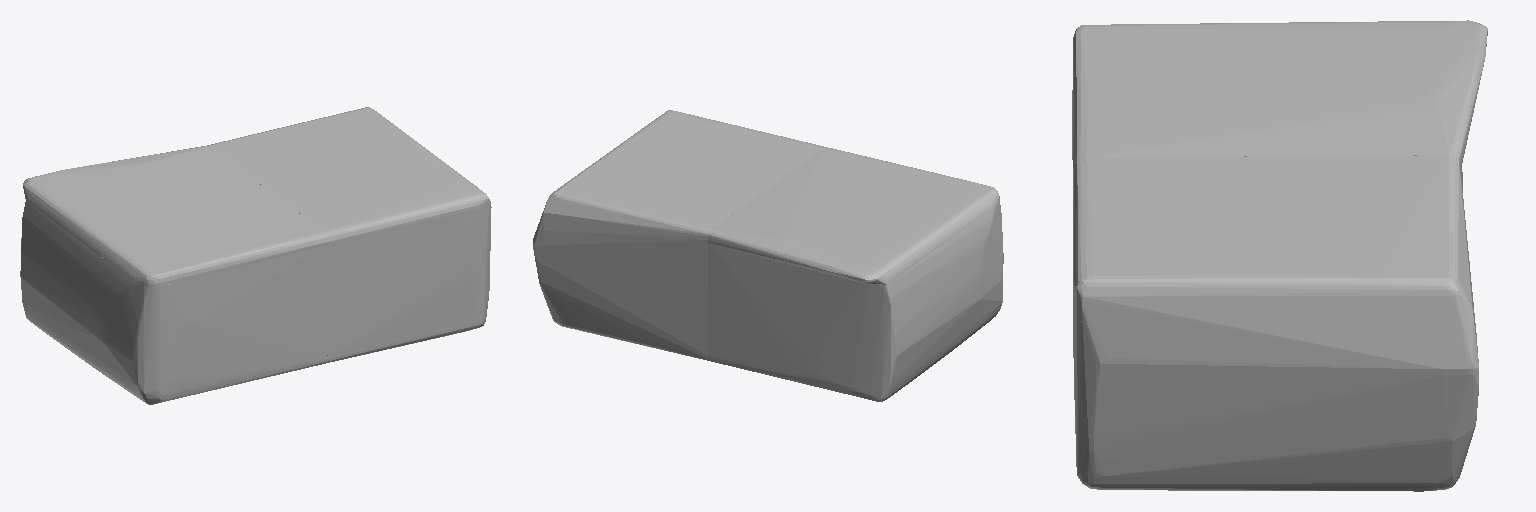
URDF robot description (root):
<robot name="root">
  <link name="link_coacd_convex_piece_0">
    <inertial>
      <origin xyz="0 0 0" rpy="0 0 0"/>
      <inertia ixx="4.51E-08" ixy="2.93E-09" ixz="-1.08E-09" iyy="1.03E-07" iyz="1.72E-10" izz="1.24E-07"/>
    </inertial>
    <visual>
      <origin xyz="0 0 0" rpy="0 0 0"/>
      <geometry>
        <mesh filename="coacd_convex_piece_0.obj" scale="1.0000E+00 1.0000E+00 1.0000E+00"/>
      </geometry>
      <material name="">
        <color rgba="7.50E-01 7.50E-01 7.50E-01 1"/>
      </material>
    </visual>
    <collision>
      <origin xyz="0 0 0" rpy="0 0 0"/>
      <geometry>
        <mesh filename="coacd_convex_piece_0.obj" scale="1.0000E+00 1.0000E+00 1.0000E+00"/>
      </geometry>
    </collision>
  </link>
  <link name="link_coacd_convex_piece_1">
    <inertial>
      <origin xyz="0 0 0" rpy="0 0 0"/>
      <inertia ixx="6.24E-09" ixy="1.22E-10" ixz="4.20E-09" iyy="1.09E-08" iyz="-3.14E-11" izz="1.09E-08"/>
    </inertial>
    <visual>
      <origin xyz="0 0 0" rpy="0 0 0"/>
      <geometry>
        <mesh filename="coacd_convex_piece_1.obj" scale="1.0000E+00 1.0000E+00 1.0000E+00"/>
      </geometry>
      <material name="">
        <color rgba="7.50E-01 7.50E-01 7.50E-01 1"/>
      </material>
    </visual>
    <collision>
      <origin xyz="0 0 0" rpy="0 0 0"/>
      <geometry>
        <mesh filename="coacd_convex_piece_1.obj" scale="1.0000E+00 1.0000E+00 1.0000E+00"/>
      </geometry>
    </collision>
  </link>
  <joint name="link_coacd_convex_piece_1_joint" type="fixed">
    <origin xyz="0 0 0" rpy="0 0 0"/>
    <parent link="link_coacd_convex_piece_0"/>
    <child link="link_coacd_convex_piece_1"/>
  </joint>
  <link name="link_coacd_convex_piece_2">
    <inertial>
      <origin xyz="0 0 0" rpy="0 0 0"/>
      <inertia ixx="4.18E-08" ixy="-4.85E-09" ixz="-2.26E-09" iyy="9.65E-08" iyz="1.72E-10" izz="1.18E-07"/>
    </inertial>
    <visual>
      <origin xyz="0 0 0" rpy="0 0 0"/>
      <geometry>
        <mesh filename="coacd_convex_piece_2.obj" scale="1.0000E+00 1.0000E+00 1.0000E+00"/>
      </geometry>
      <material name="">
        <color rgba="7.50E-01 7.50E-01 7.50E-01 1"/>
      </material>
    </visual>
    <collision>
      <origin xyz="0 0 0" rpy="0 0 0"/>
      <geometry>
        <mesh filename="coacd_convex_piece_2.obj" scale="1.0000E+00 1.0000E+00 1.0000E+00"/>
      </geometry>
    </collision>
  </link>
  <joint name="link_coacd_convex_piece_2_joint" type="fixed">
    <origin xyz="0 0 0" rpy="0 0 0"/>
    <parent link="link_coacd_convex_piece_1"/>
    <child link="link_coacd_convex_piece_2"/>
  </joint>
</robot>

--- Facts derived from the render (not from the file) ---
3 views of the same robot in one strip: view 1: azimuth 30°, elevation 25°; view 2: azimuth 150°, elevation 25°; view 3: azimuth 270°, elevation 25° (orthographic).
Model root with 3 links and 2 joints (2 fixed), rooted at link_coacd_convex_piece_0, posed all joints at 0.
Visible links, largest first — view 1: link_coacd_convex_piece_0, link_coacd_convex_piece_2, link_coacd_convex_piece_1; view 2: link_coacd_convex_piece_0, link_coacd_convex_piece_2, link_coacd_convex_piece_1; view 3: link_coacd_convex_piece_0, link_coacd_convex_piece_1.
Boxes of the visible links, x1,y1,x2,y2 form: link_coacd_convex_piece_0: (207, 107, 491, 363); link_coacd_convex_piece_2: (20, 202, 327, 404); link_coacd_convex_piece_1: (23, 146, 327, 286); link_coacd_convex_piece_0: (533, 110, 825, 360); link_coacd_convex_piece_2: (708, 201, 1003, 401); link_coacd_convex_piece_1: (708, 147, 999, 284); link_coacd_convex_piece_0: (1073, 155, 1478, 491); link_coacd_convex_piece_1: (1073, 20, 1487, 167).
Bounding box of the posed robot: 0.1055 × 0.066 × 0.0404 m (x, y, z).
Meshes: 3 distinct files referenced, 3 mesh visuals loaded (3 OBJ).